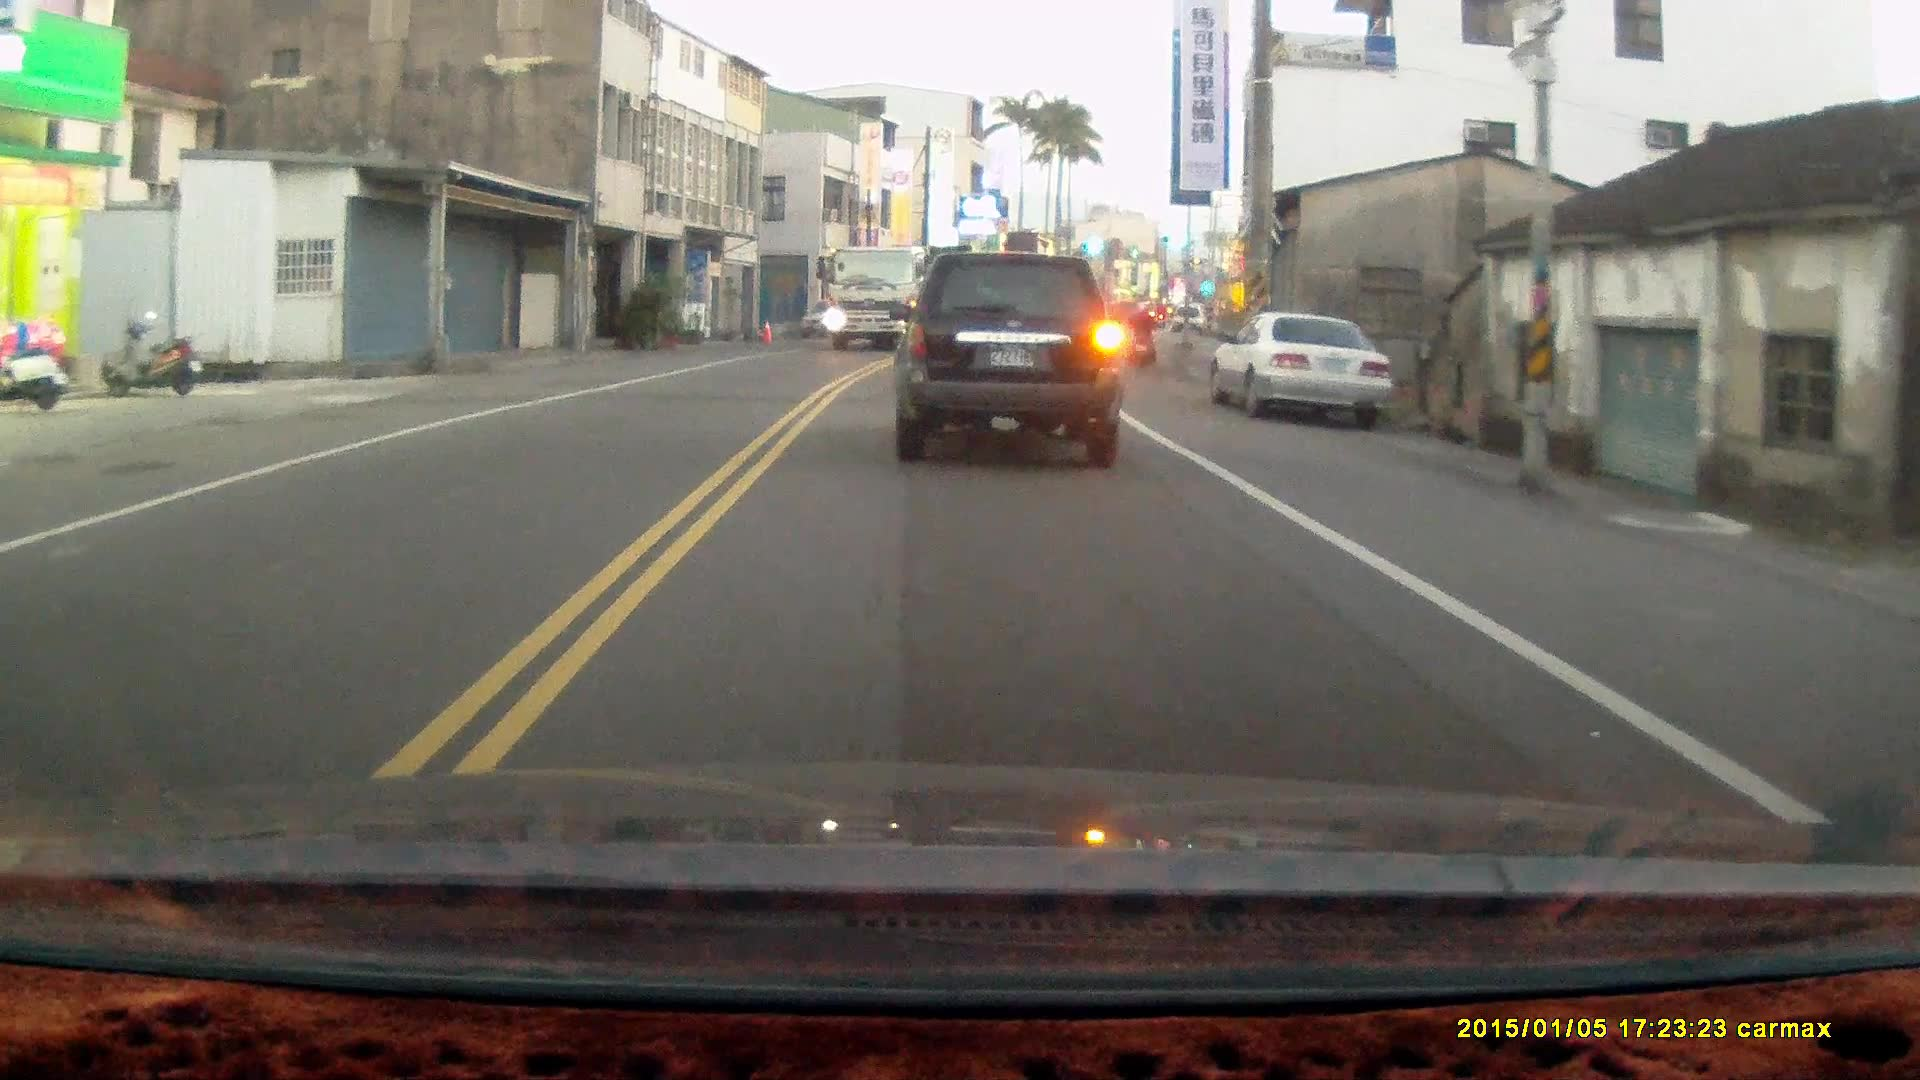rider: (1127, 297, 1158, 371)
vehicle: (891, 250, 1132, 460), (1211, 313, 1398, 433), (813, 244, 930, 351)
